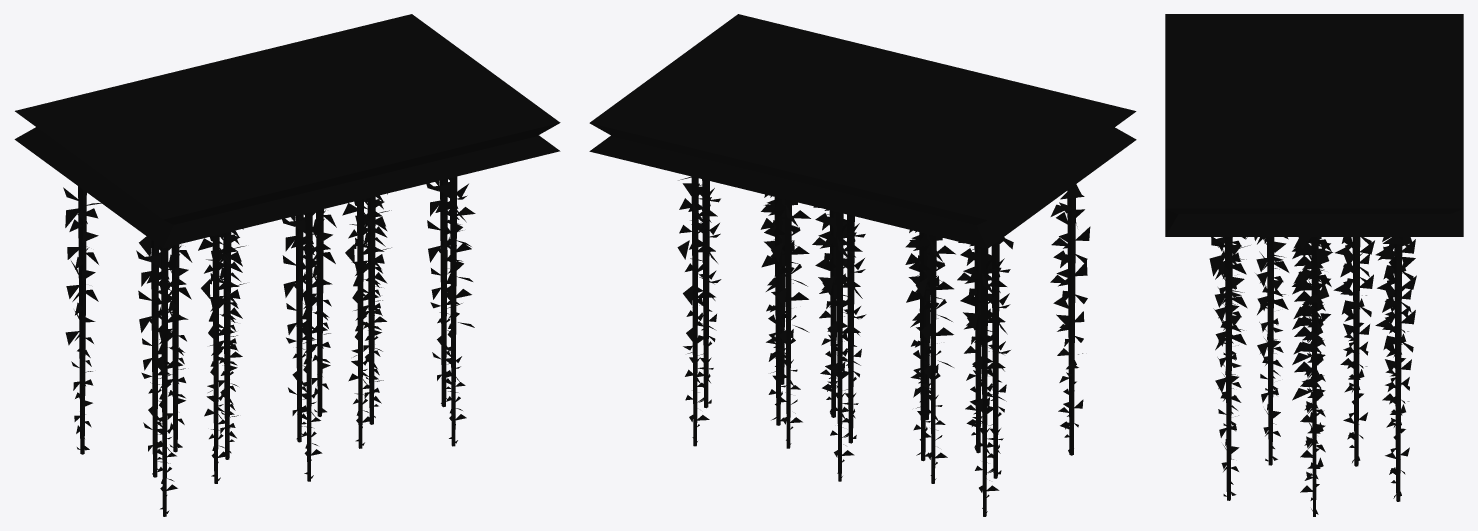
Rendered from RainLight_Off.glb.
3 renders of one model, left to right at view 1: azimuth 30°, elevation 25°; view 2: azimuth 150°, elevation 25°; view 3: azimuth 270°, elevation 25°, orthographic.
Parts seen in each view (by area): view 1: rainLight_off; view 2: rainLight_off; view 3: rainLight_off.
Part boxes in pixels (<box>): rainLight_off: <box>14,14,560,516</box>; rainLight_off: <box>589,14,1136,516</box>; rainLight_off: <box>1165,14,1463,516</box>.
Bounding box in the file's own units: 1.5 × 1.18 × 0.9737.
1 material, 1 textured.
